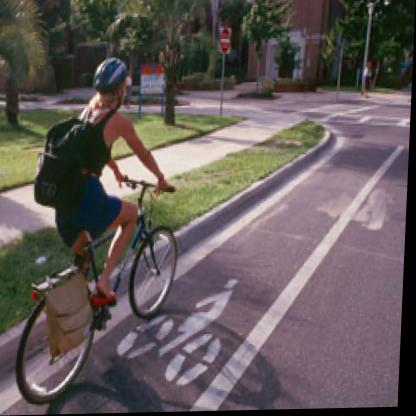With Helmet: (86, 54, 135, 101)
